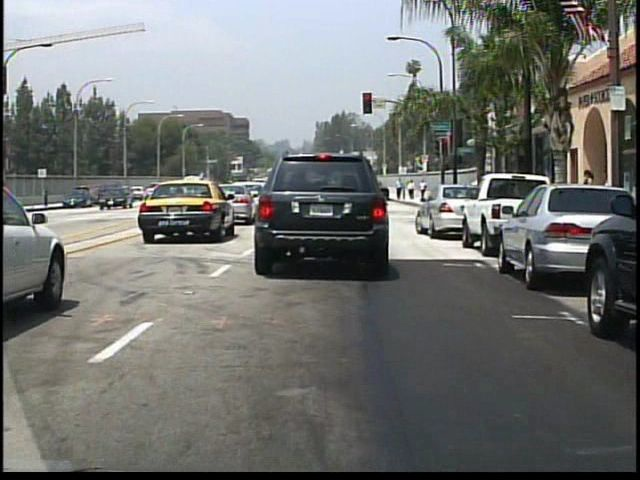person: (579, 166, 599, 224), (419, 179, 428, 203), (397, 176, 405, 199), (408, 179, 416, 201)
